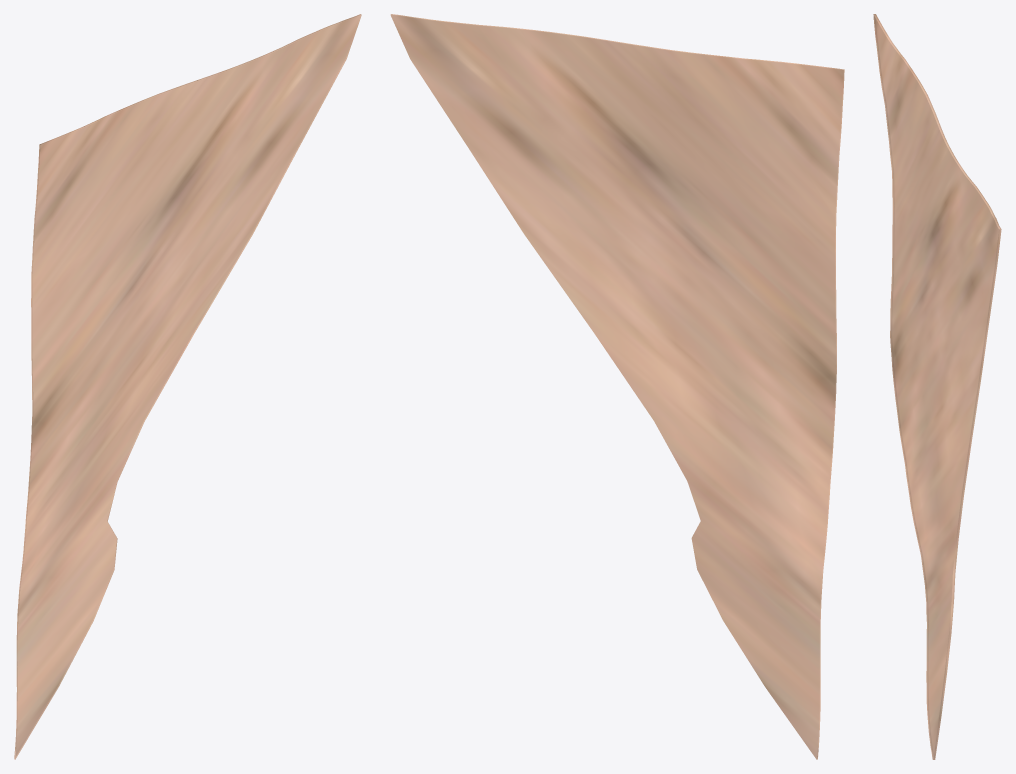
3 renders of one model, left to right at view 1: azimuth 30°, elevation 25°; view 2: azimuth 150°, elevation 25°; view 3: azimuth 270°, elevation 25°, orthographic. The views are drawn at different scales.
Size of the model in its own units: 5.68 by 9.16 by 1.43.
1 material, 1 textured.
